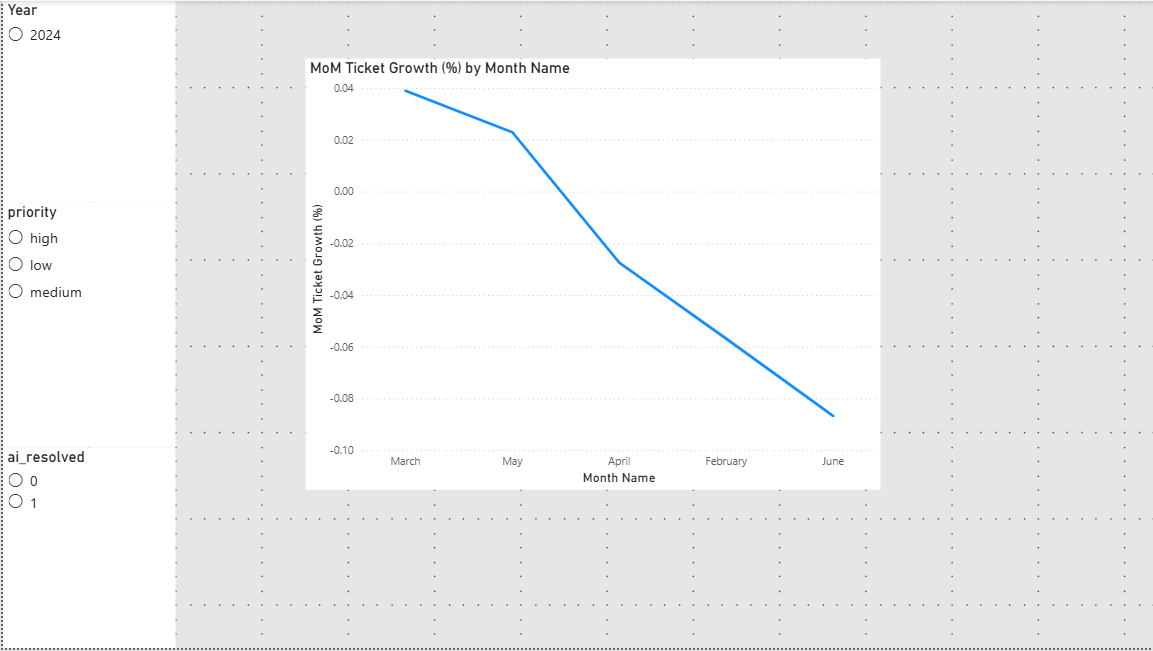

The page's visual inventory and layout, read from the dashboard file:
{"tool":"powerbi","page":{"name":"ADVANCED ANALYTICS","canvas":[1280,720],"ordinal":2},"visuals":[{"type":"lineChart","fields":{"Category":["DimDate.Month Name"],"Y":["FactTickets.MoM Ticket Growth (%)"]},"box":[336,64,640,480],"z":0},{"type":"listSlicer","fields":{"Values":["DimDate.Year"]},"box":[0,0,192,224],"z":1000},{"type":"listSlicer","fields":{"Values":["DimPriority.priority"]},"box":[0,224,192,272],"z":2000},{"type":"listSlicer","fields":{"Values":["FactTickets.ai_resolved"]},"box":[0,496,192,224],"z":3000}]}

Visuals, with their boxes on the page's 1280x720 design canvas (x1, y1, x2, y2). These are canvas units, not pixel positions in the 1153x651 screenshot, which may show the page scaled, cropped or inside an application window:
lineChart - DimDate.Month Name x FactTickets.MoM Ticket Growth (%): rect(336, 64, 976, 544)
listSlicer - DimDate.Year: rect(0, 0, 192, 224)
listSlicer - DimPriority.priority: rect(0, 224, 192, 496)
listSlicer - FactTickets.ai_resolved: rect(0, 496, 192, 720)
